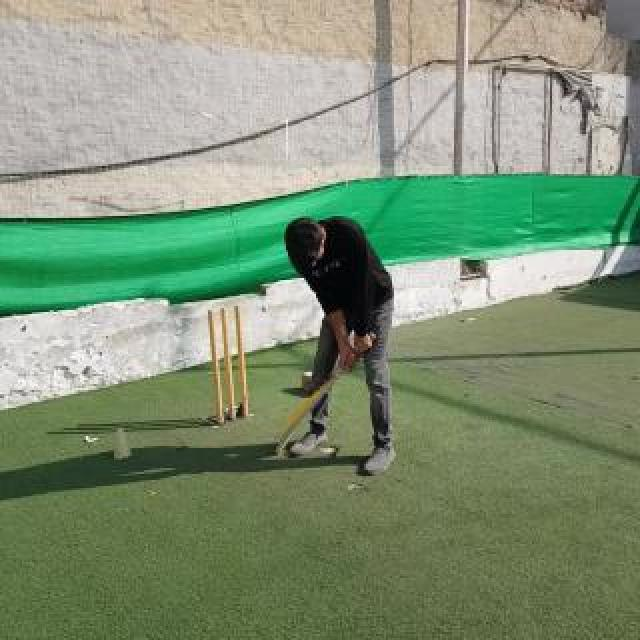bat: (276, 334, 374, 454)
